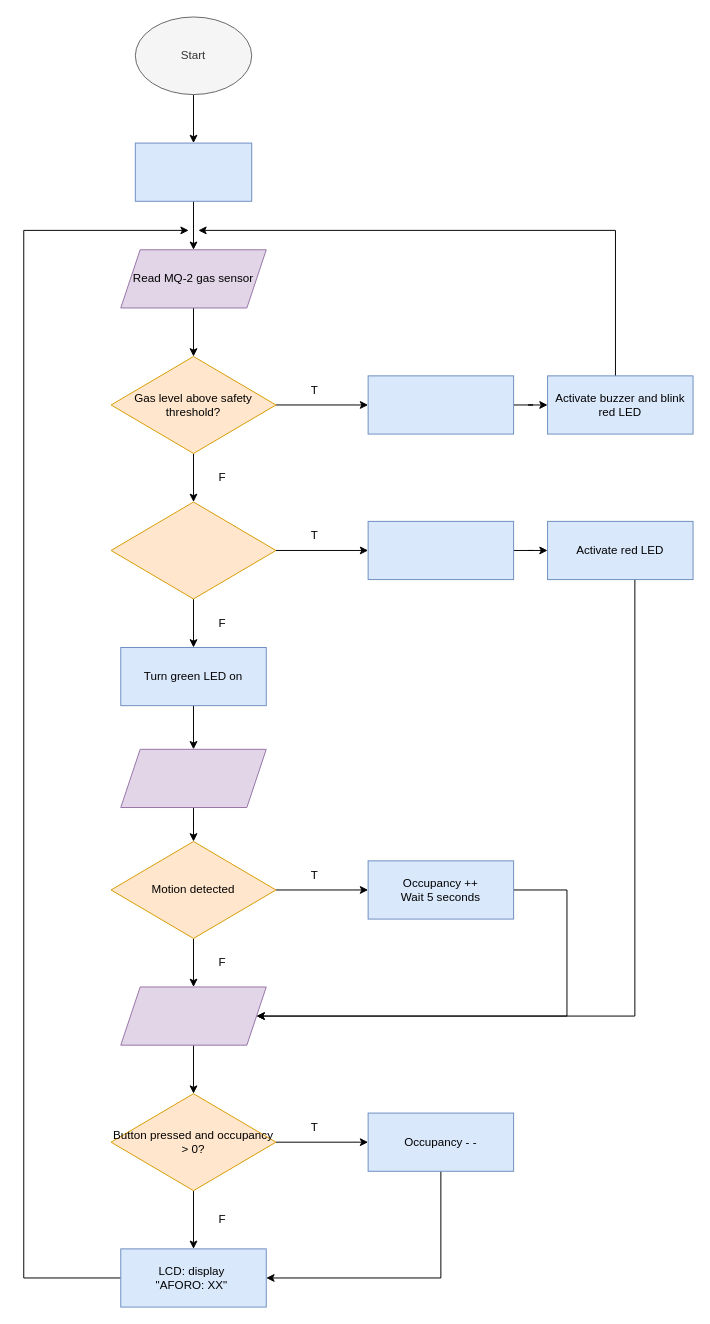
Image size: 710x1324. Some labels were removed from this diagram. Each missing label, with the centre of its shape:
Configure sensors, pins, LCD and timing variable: the point at 193,171
LCD: display "AFORO COMPLETO": the point at 440,550
LCD: display "PELIGRO: EVACUAR": the point at 440,404
Occupancy >= 50=: the point at 193,550
Read button: the point at 193,1015
Read PIR sensor: the point at 193,778
